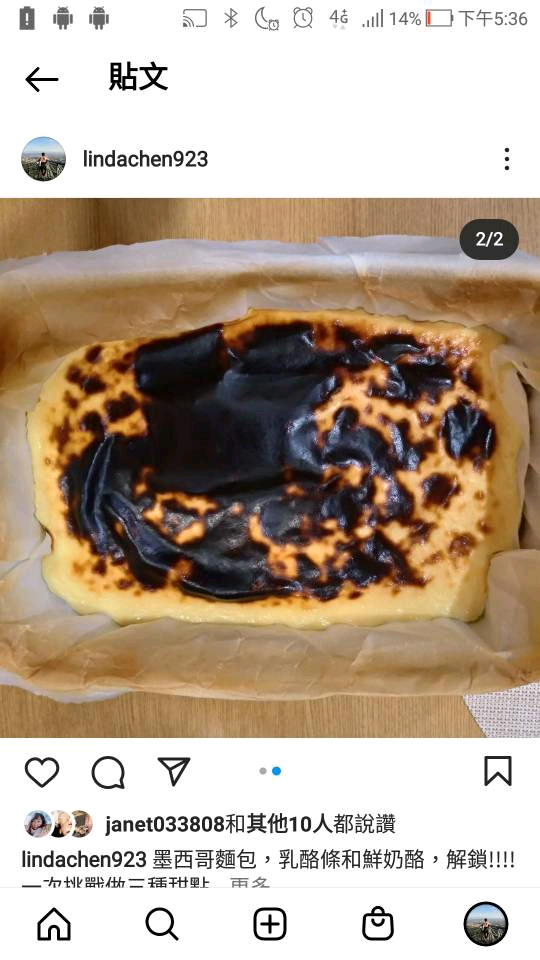back: (19, 51, 69, 105)
border_options: (488, 134, 518, 178)
icon_bookmark: (475, 746, 520, 792)
icon_nav: (23, 893, 199, 949)
